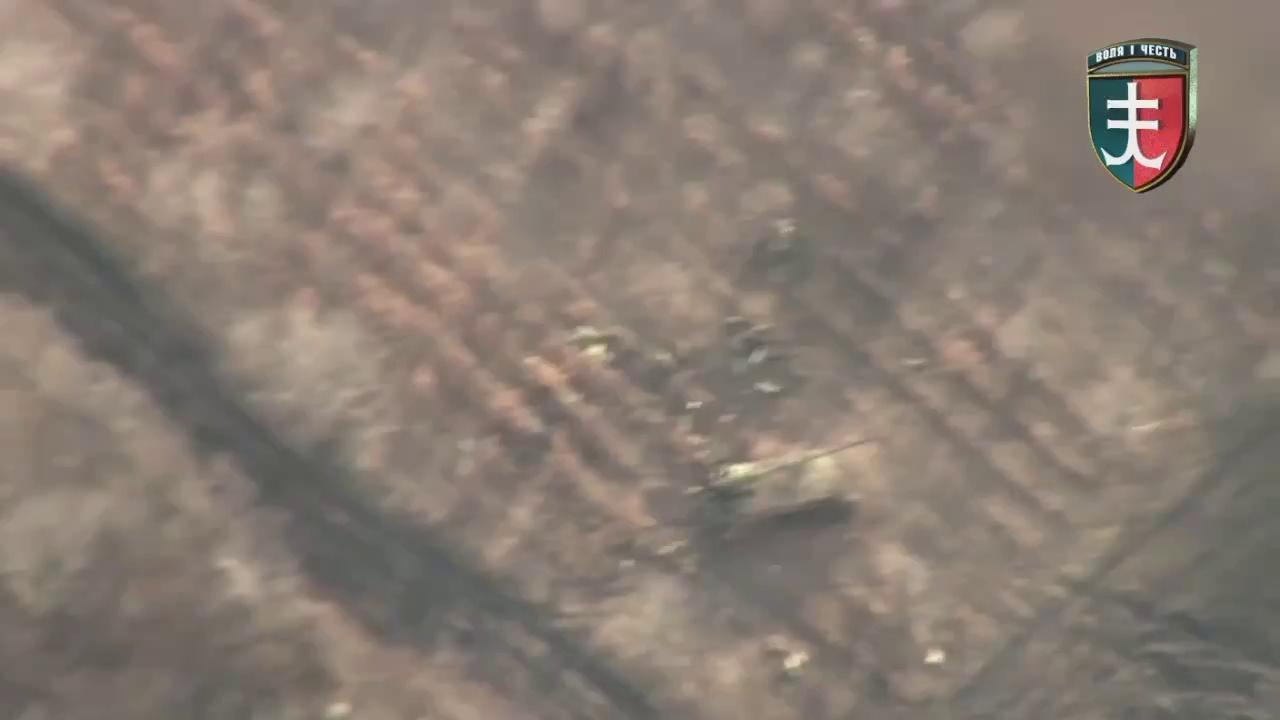vehicle: (696, 442, 858, 530)
